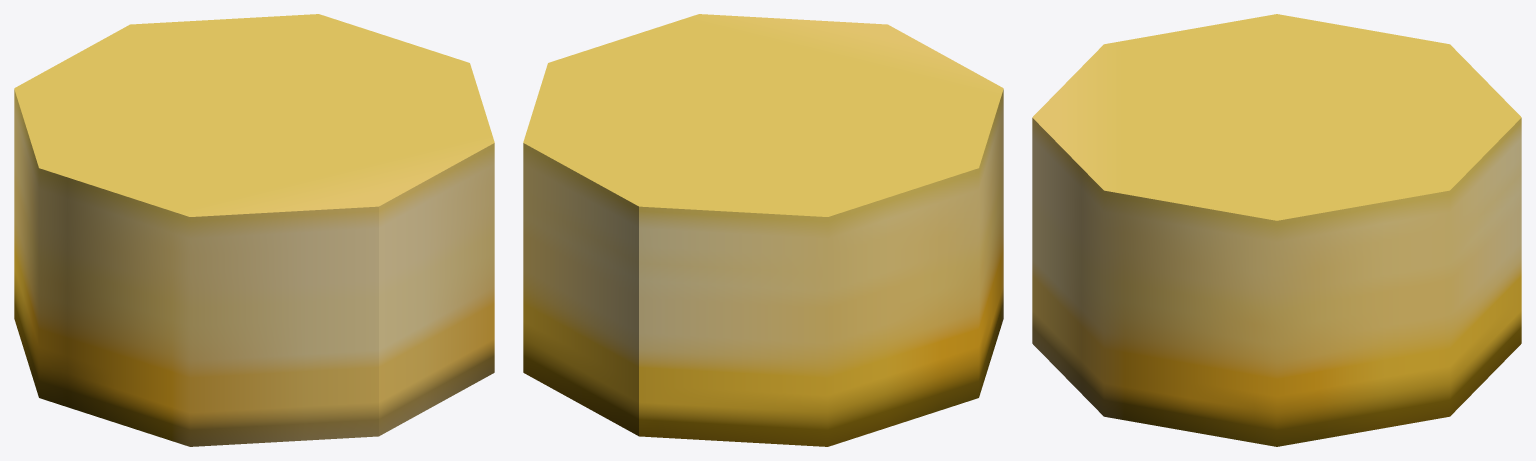
File: food_cheese.glb
The picture shows the model from 3 angles, left to right: view 1: azimuth 30°, elevation 25°; view 2: azimuth 150°, elevation 25°; view 3: azimuth 270°, elevation 25°; orthographic projection.
Parts seen in each view (by area): view 1: cheese_01.001; view 2: cheese_01.001; view 3: cheese_01.001.
Part boxes in pixels (x1,y1,x2,y2): cheese_01.001: [14, 14, 494, 446]; cheese_01.001: [523, 14, 1003, 446]; cheese_01.001: [1032, 14, 1521, 446].
Size of the model in its own units: 60 by 30.58 by 60.
1 material, 1 textured.
